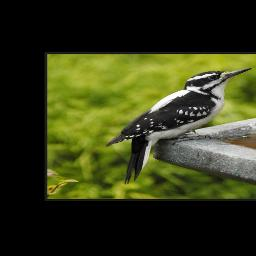Woodpecker: (106, 64, 254, 185)
